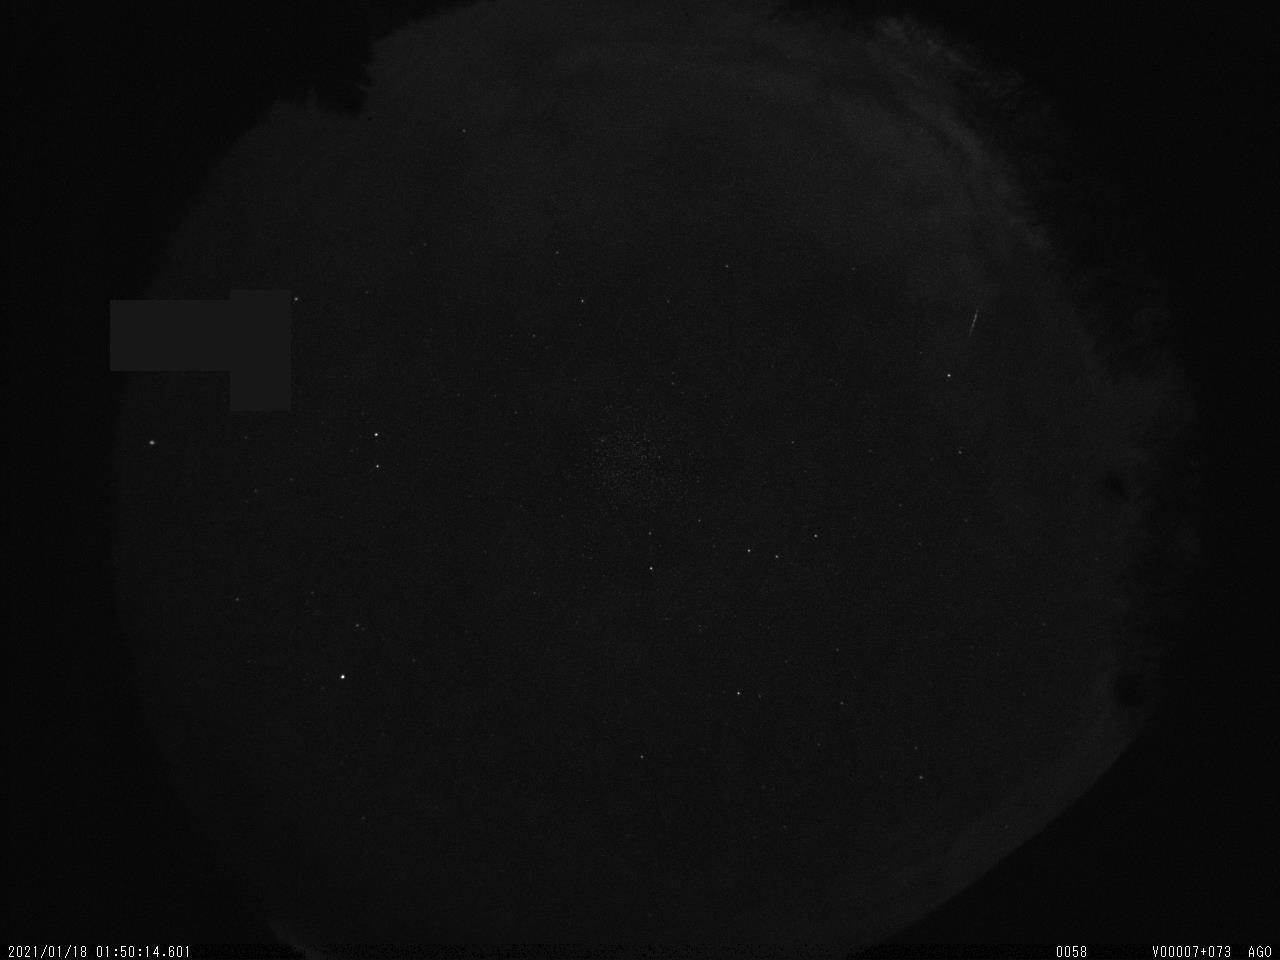Meteor: (962, 299, 988, 344)
